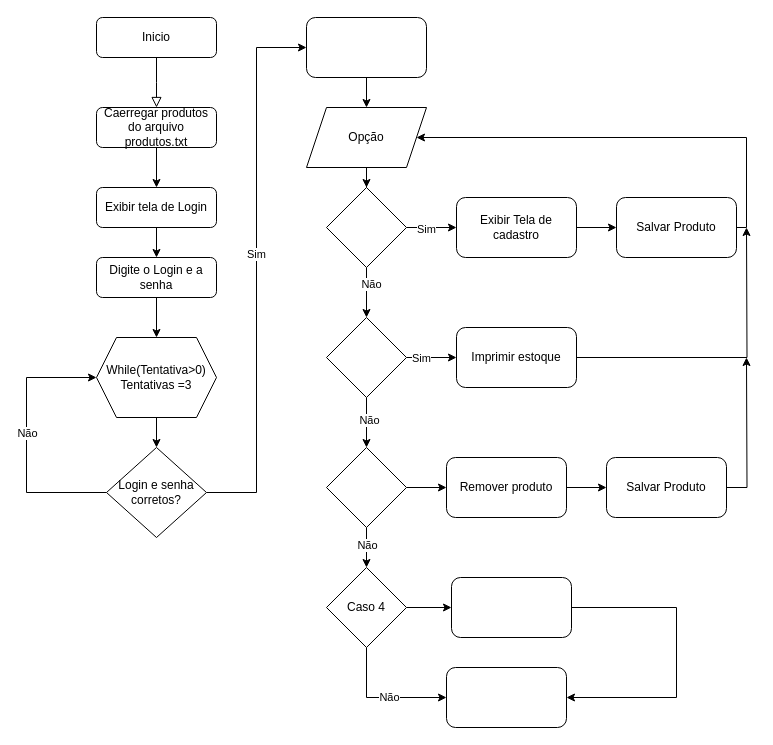
Some shapes in this 773 by 745 pixel diagram are drawn without their labels. The shapes that lost their labels are listed below. From the top down, each one's box as (x1, y1, x2, y2) in pixels, then its label:
(306, 16, 426, 78): Limpa tela Exibir menu
(326, 186, 406, 268): Caso 1
(326, 316, 406, 398): Caso 2
(326, 446, 406, 528): Caso 3
(450, 576, 572, 638): Printf("Saindo");
(446, 666, 566, 728): Finaliza programa com return 0;
